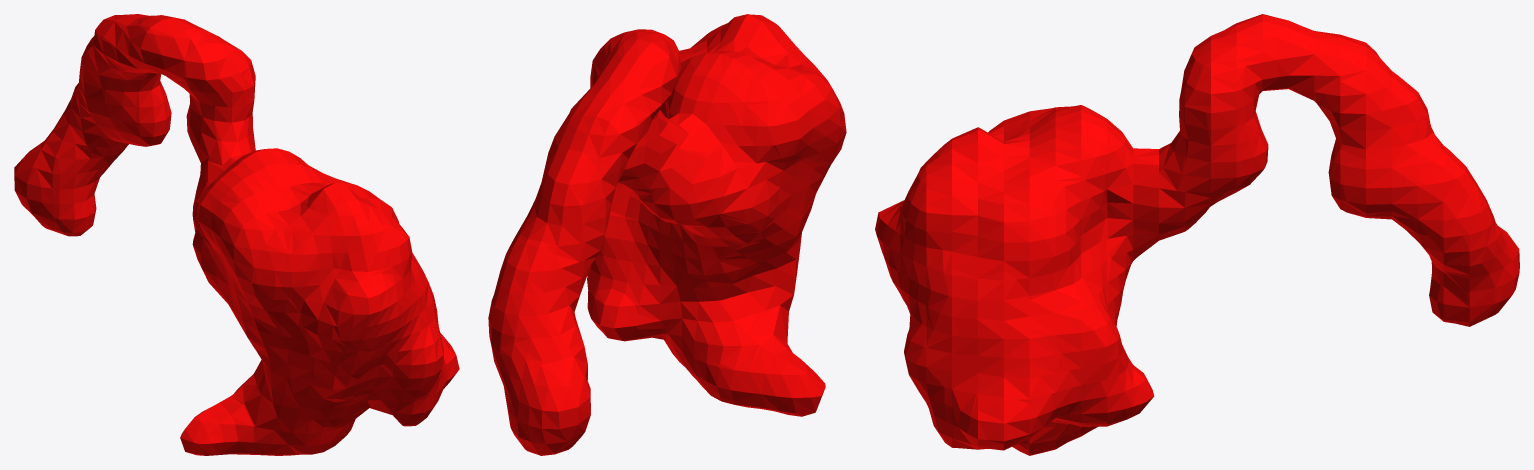
Rendered from rbfA_coarse.dae.
The picture shows the model from 3 angles, left to right: view 1: azimuth 30°, elevation 25°; view 2: azimuth 150°, elevation 25°; view 3: azimuth 270°, elevation 25°; orthographic projection. The views are drawn at different scales.
Parts seen in each view (by area): view 1: rbfA; view 2: rbfA; view 3: rbfA.
Boxes of the visible parts, box(x1,y1,x2,y2) form: rbfA: box(14, 14, 459, 455); rbfA: box(488, 14, 846, 455); rbfA: box(875, 14, 1519, 455).
Size of the model in its own units: 38.65 by 57.35 by 81.62.
